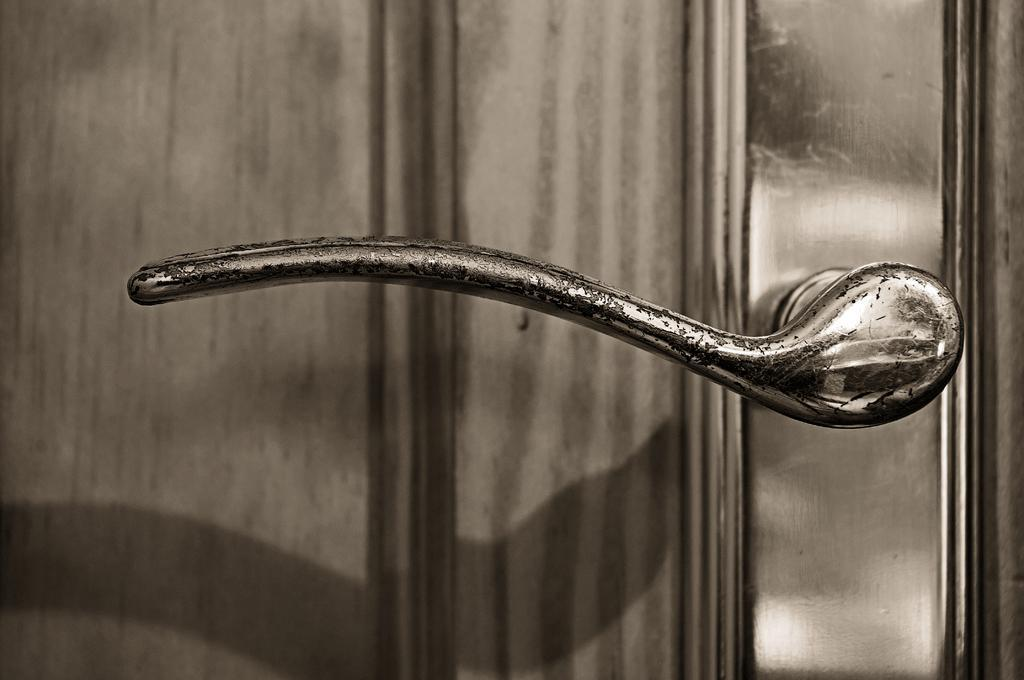handle: (125, 234, 956, 427)
